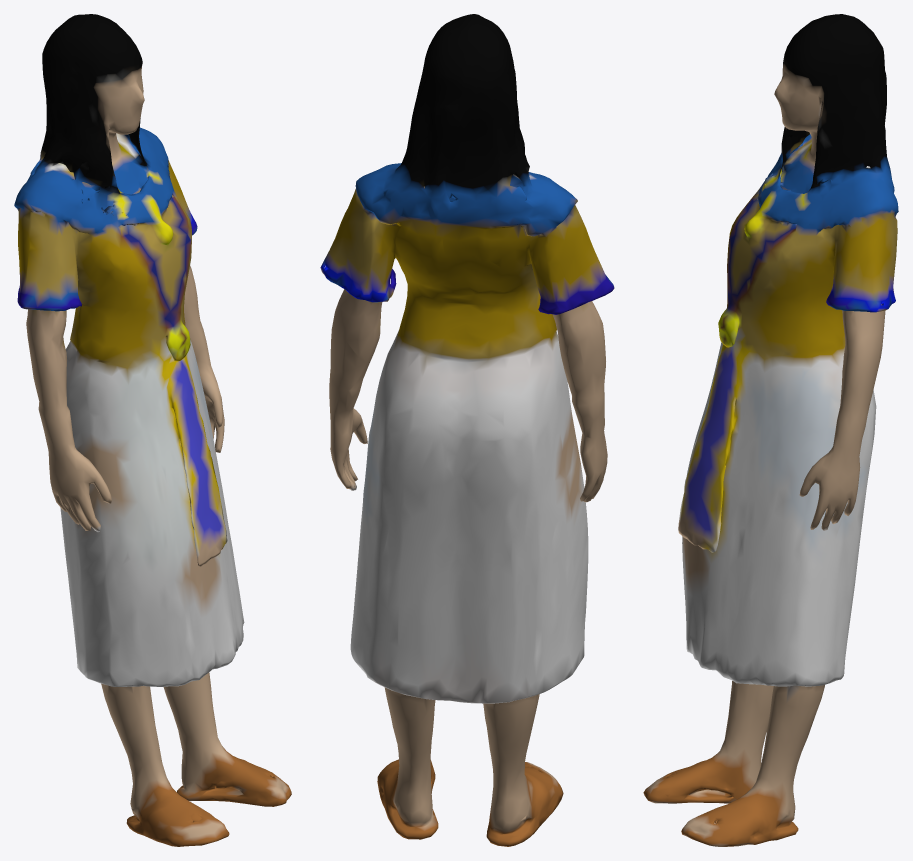
Rendered from Vô Danh2.fbx.
3 renders of one model, left to right at view 1: azimuth 30°, elevation 25°; view 2: azimuth 150°, elevation 25°; view 3: azimuth 270°, elevation 25°, orthographic. The views are drawn at different scales.
Visible parts, largest first — view 1: 2; view 2: 2; view 3: 2.
Boxes of the visible parts, x1,y1,x2,y2 form: 2: (14,14,291,846); 2: (320,14,614,846); 2: (643,14,898,846).
Bounding box in the file's own units: 63.61 × 200 × 59.2.
